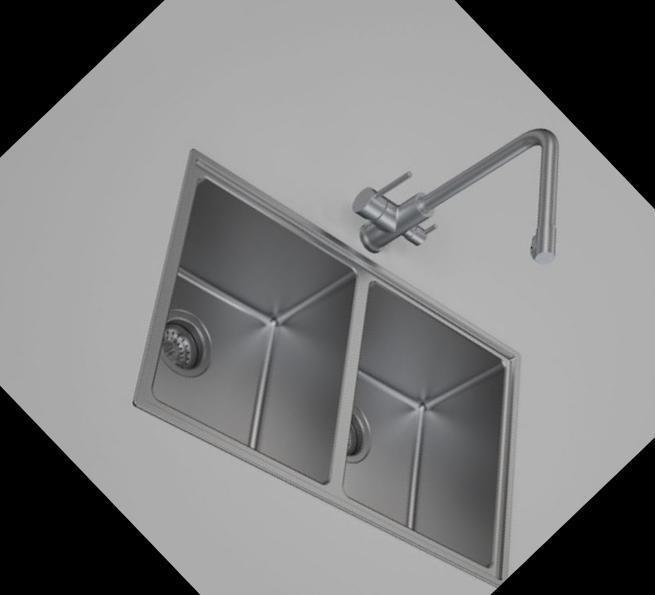Lavaplatos: (21, 0, 655, 595)
